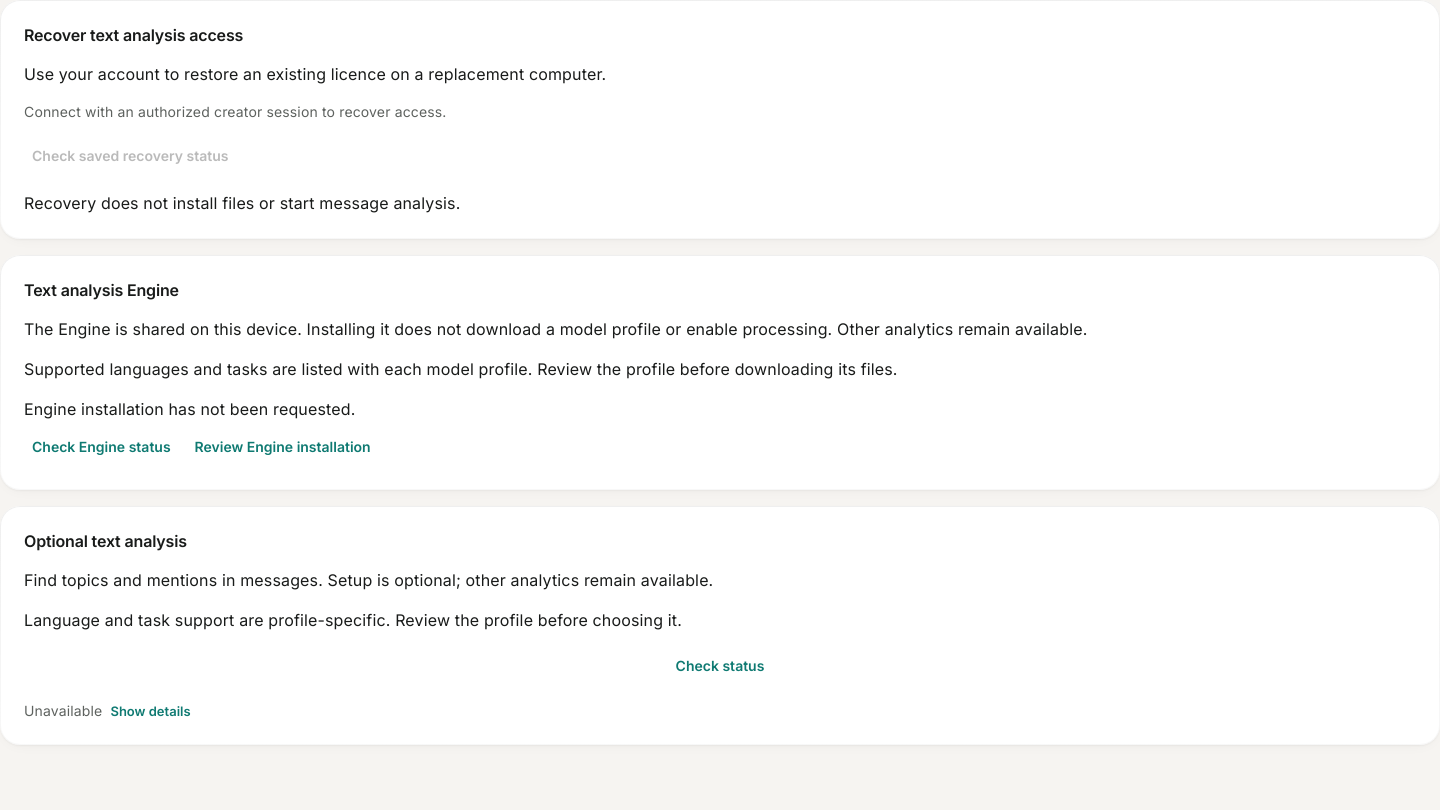
Test case: NlpDependencyControls › keeps shared Engine review separate when no qualified profile service is configured
Expected: the text "Engine installation has not been requested." is shown, x1=24 y1=399 x2=356 y2=419
Expected: the element showing "Unavailable Show details" is shown, x1=24 y1=701 x2=191 y2=721
Click the button "Show details" at (150, 711), box x1=110 y1=701 x2=191 y2=721
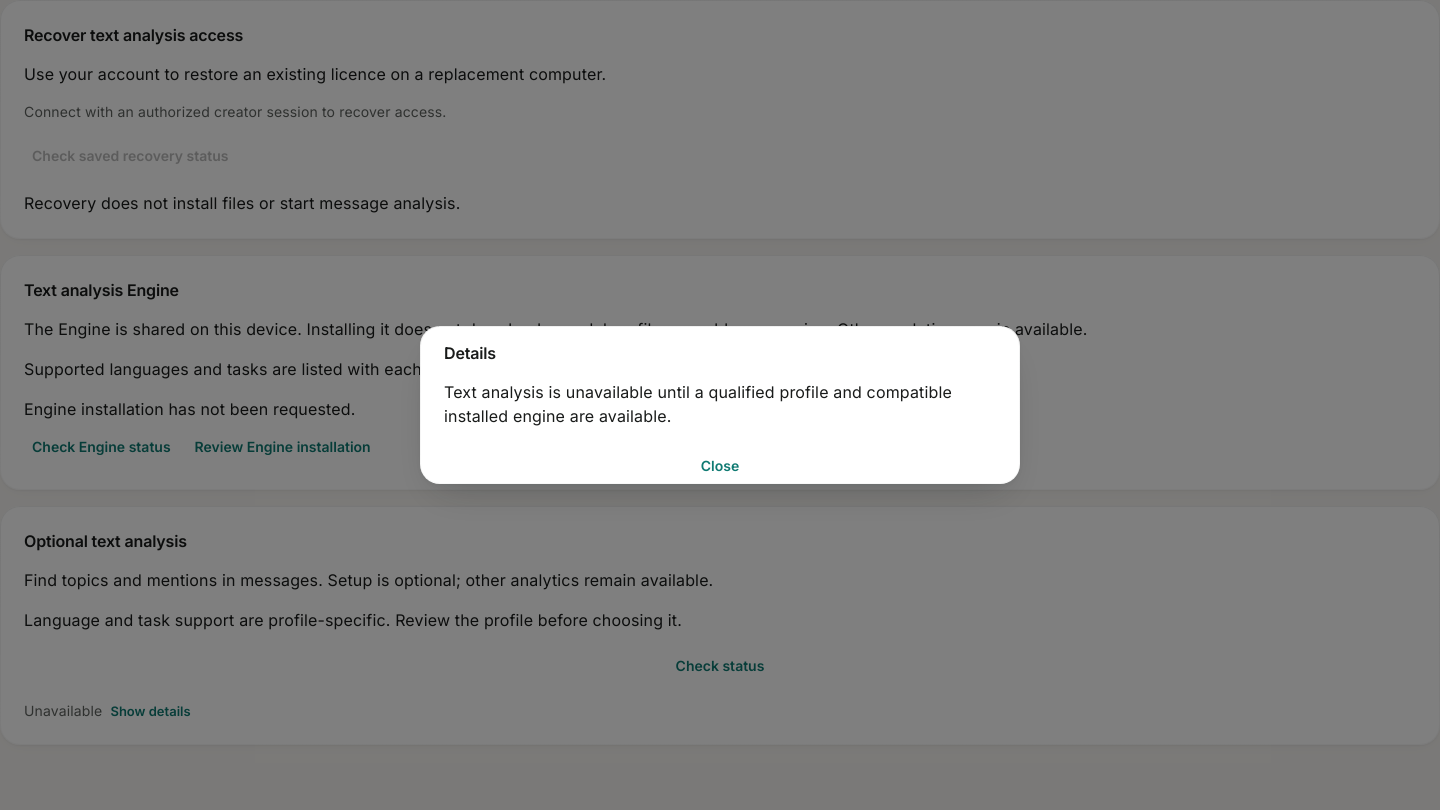
Result: the text "Text analysis is unavailable until a qualified profile" is shown at x1=444 y1=382 x2=952 y2=426
Click the button "Close" at (720, 466), box x1=420 y1=448 x2=1020 y2=484
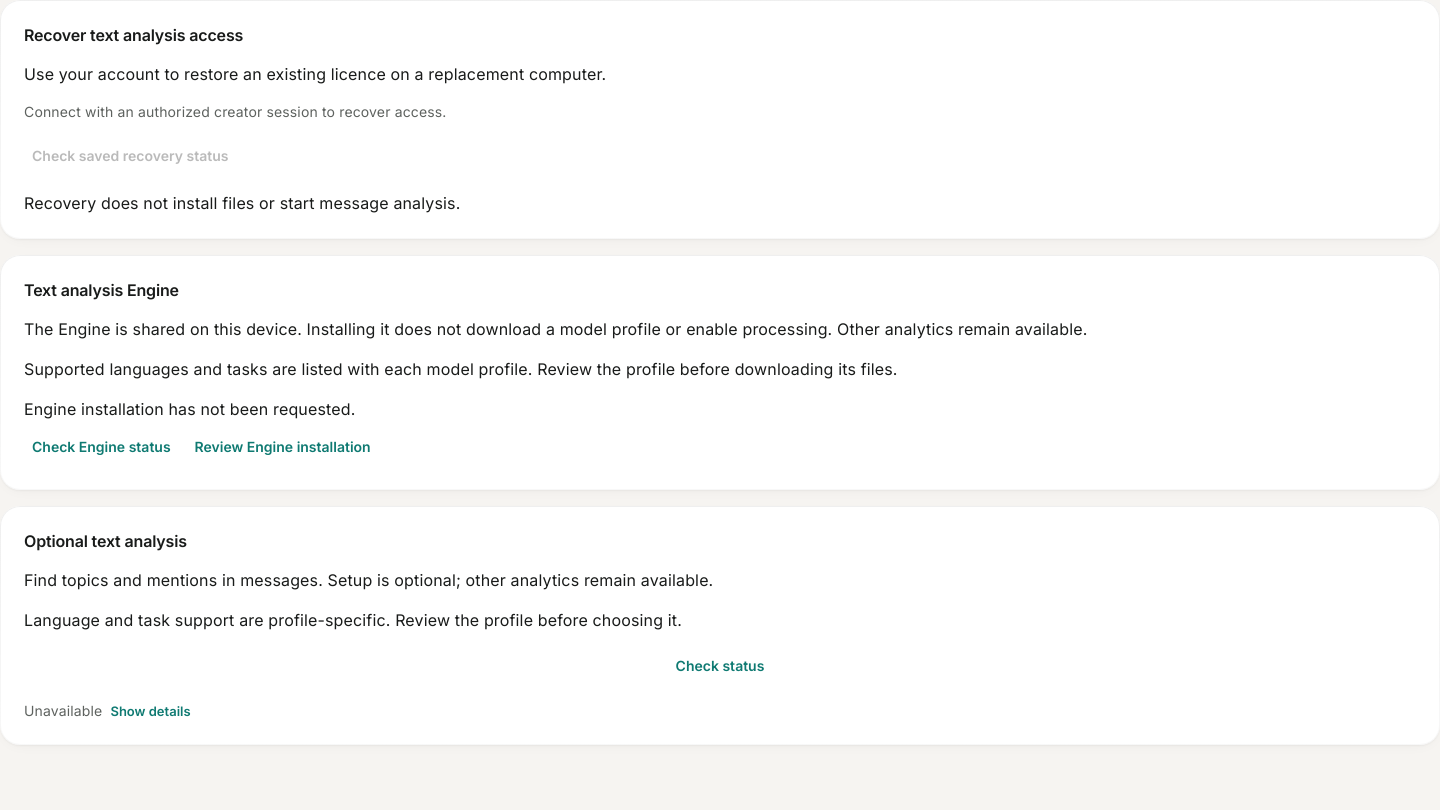
Click the button "Review Engine installation" at (283, 448), box x1=187 y1=429 x2=379 y2=466
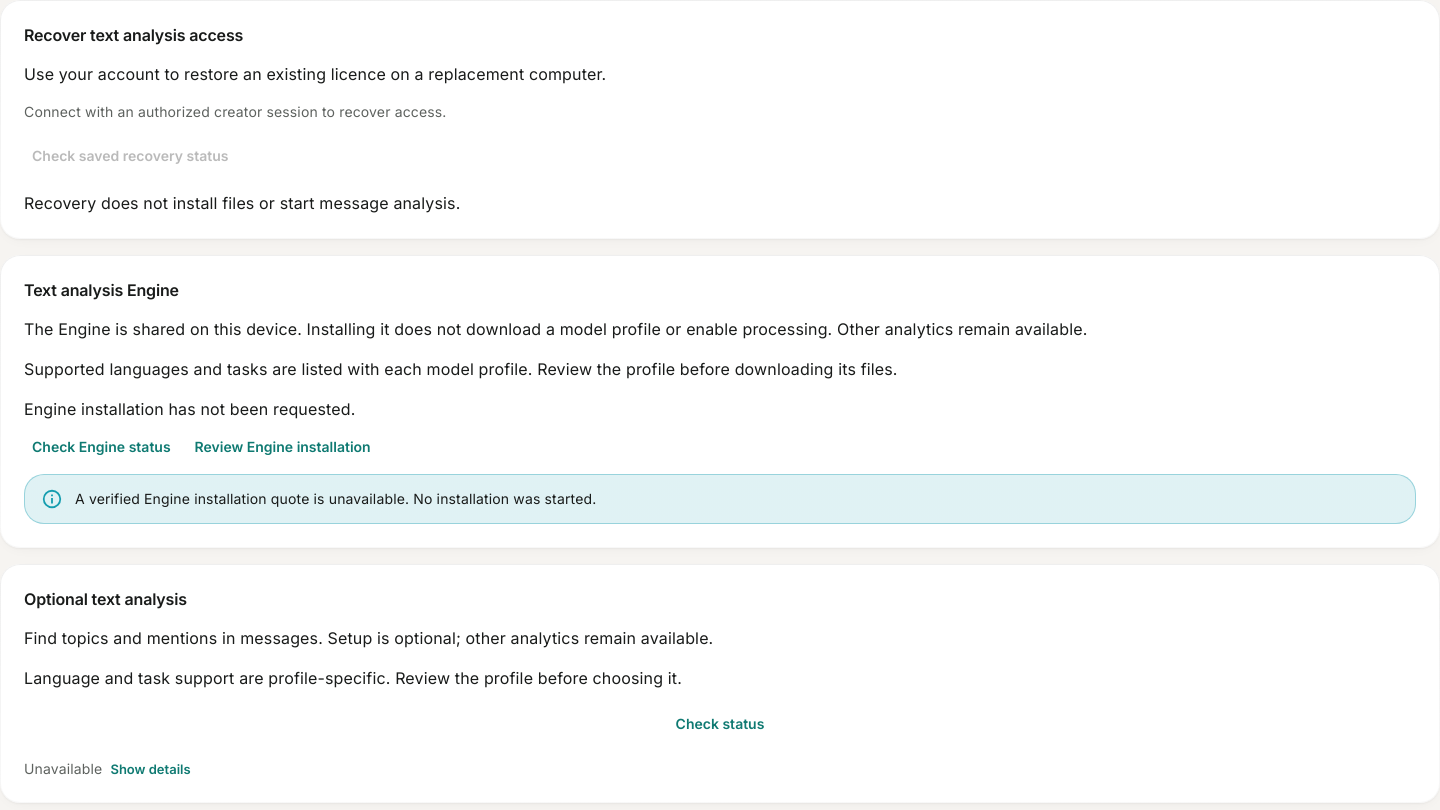
Result: the text "A verified Engine installation quote is unavailable" is shown at x1=75 y1=490 x2=596 y2=507
